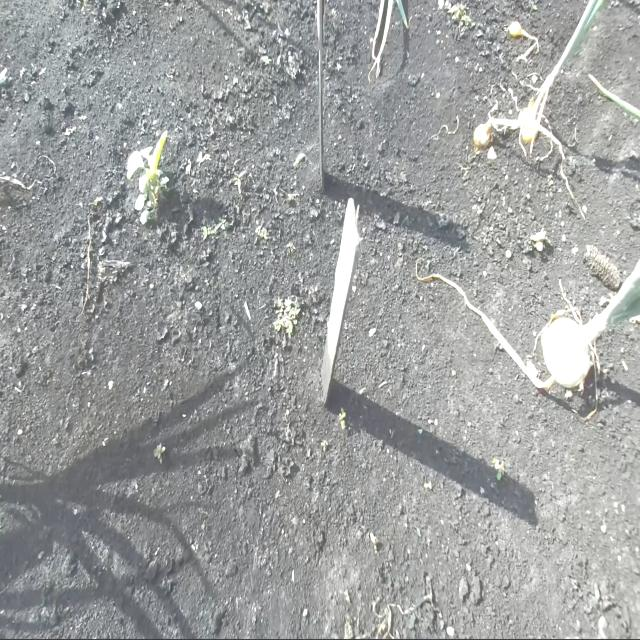onion: (532, 246, 640, 391)
